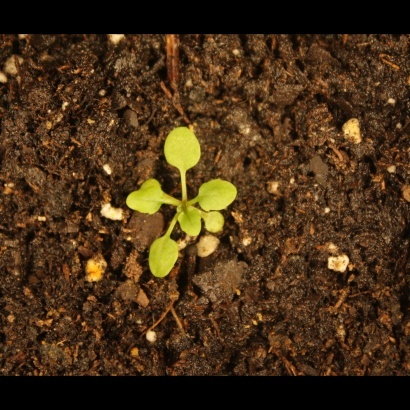leaf: (159, 123, 207, 176), (122, 174, 171, 220), (148, 235, 183, 284), (196, 178, 243, 213), (176, 204, 205, 238), (202, 208, 226, 235)
